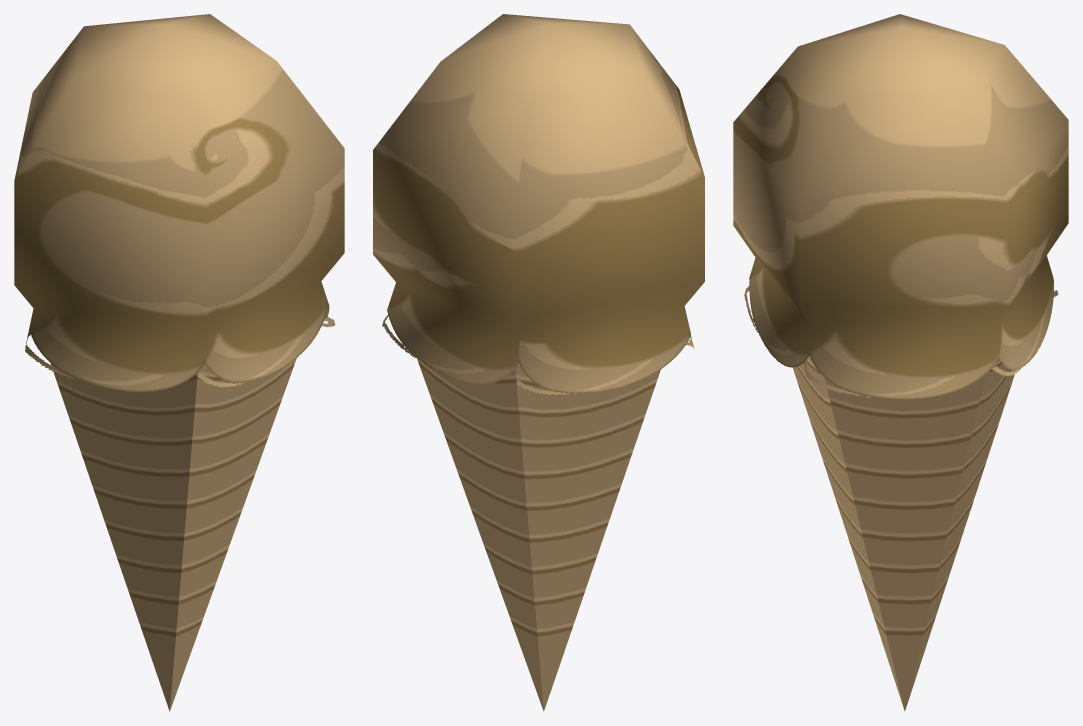
3 renders of one model, left to right at view 1: azimuth 30°, elevation 25°; view 2: azimuth 150°, elevation 25°; view 3: azimuth 270°, elevation 25°, orthographic.
Visible parts, largest first — view 1: ic_cone; view 2: ic_cone; view 3: ic_cone.
Boxes of the visible parts, left/top/right/bottom form: ic_cone: left=14, top=14, right=344, bottom=711; ic_cone: left=373, top=14, right=704, bottom=711; ic_cone: left=733, top=14, right=1068, bottom=711.
Size of the model in its own units: 0.3339 by 0.7844 by 0.3492.
Materials: 1 (1 with a texture image).
